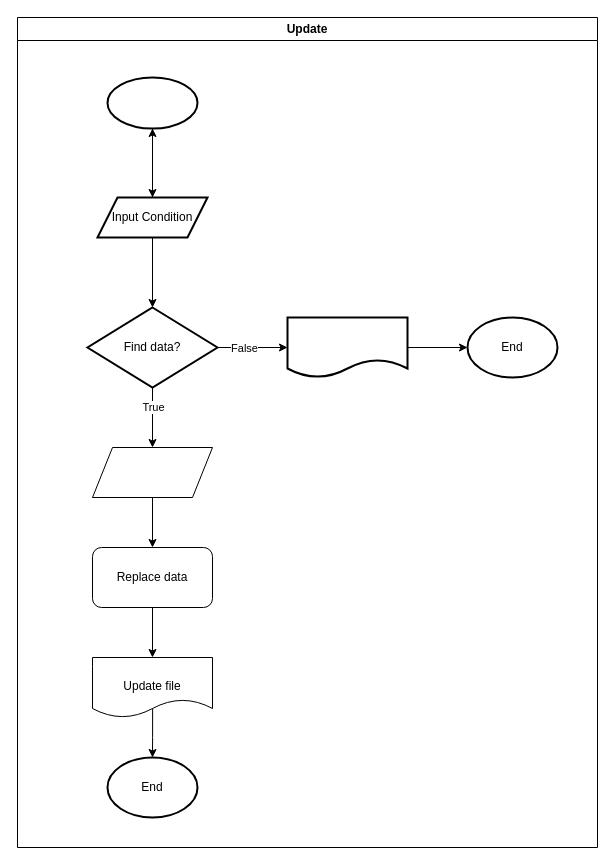
This 615x865 diagram has some shape labels left out. The shapes that lost their labels are listed below. From the top down, each one's centre as x and y in pixels, then its label:
(x=152, y=102): Start
(x=347, y=347): Print error
(x=152, y=472): Input new data
